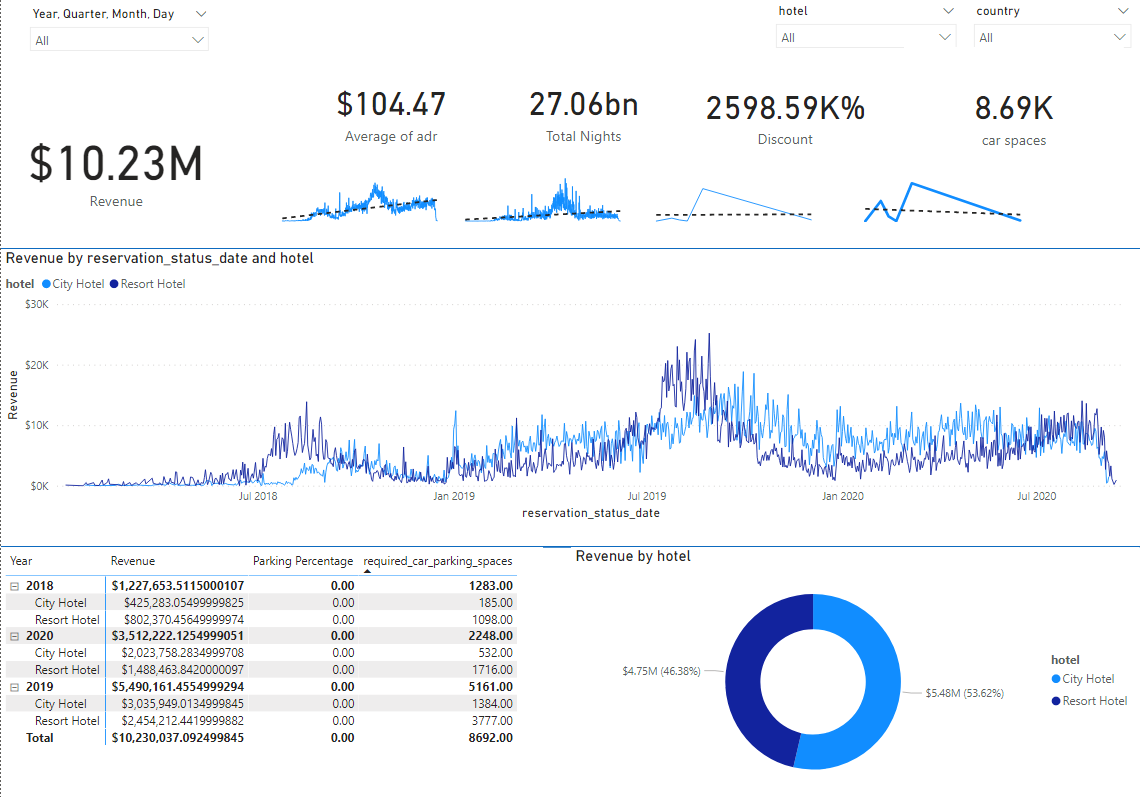

What the dashboard file says about the page in this screenshot:
{"tool":"powerbi","page":{"name":"Page 1","canvas":[1280,900],"ordinal":0},"visuals":[{"type":"shape","box":[0,265.6,1280,31.3],"z":0},{"type":"shape","box":[0,590.5,1280,48.7],"z":1000},{"type":"card","fields":{"Values":["Sum(Table.Revenue)"]},"box":[0,125.6,259.1,122.5],"z":2000},{"type":"card","fields":{"Values":["Table.Total Nights"]},"box":[570.1,56.5,169.6,138.2],"z":3000},{"type":"card","fields":{"Values":["Avg(Table.adr)"]},"box":[347.1,56.5,182.2,138.2],"z":4000},{"type":"card","fields":{"Values":["Sum(Table.Discount)"]},"box":[769.6,62.8,223,131.9],"z":5000},{"type":"lineChart","fields":{"Category":["Table.reservation_status_date"],"Y":["Sum(Table.Revenue)"],"Series":["Table.hotel"]},"box":[0,281.1,1280,309.4],"z":6000},{"type":"slicer","fields":{"Values":["Table.country"]},"box":[1083.4,0,196.6,62.5],"z":7000},{"type":"slicer","fields":{"Values":["Table.hotel"]},"box":[860.7,0,222.7,62.5],"z":8000},{"type":"lineChart","fields":{"Category":["Table.reservation_status_date"],"Y":["Sum(Table.adr)"]},"box":[301.5,186.9,204.2,69.1],"z":9000},{"type":"lineChart","fields":{"Category":["Table.reservation_status_date"],"Y":["Table.Total Nights"]},"box":[507.3,186.9,204.2,69.1],"z":10000},{"type":"lineChart","fields":{"Category":["Table.Discount"],"Y":["Sum(Table.Discount)"]},"box":[720.9,186.9,204.2,69.1],"z":11000},{"type":"card","fields":{"Values":["Sum(Table.required_car_parking_spaces)"]},"box":[1014.6,53.4,246.6,150.8],"z":12000},{"type":"lineChart","fields":{"Category":["Table.Discount"],"Y":["Sum(Table.required_car_parking_spaces)"]},"box":[956.5,186.9,204.2,69.1],"z":13000},{"type":"donutChart","fields":{"Category":["Table.hotel"],"Y":["Sum(Table.Revenue)"]},"box":[640.8,615.7,639.2,284.3],"z":14000},{"type":"pivotTable","fields":{"Values":["Sum(Table.Revenue)","Table.Parking Percentage","Sum(Table.required_car_parking_spaces)"],"Rows":["Table.reservation_status_date.Variation.Date Hierarchy.Year","Table.hotel"]},"box":[0,615.7,609.4,284.3],"z":14001},{"type":"slicer","fields":{"Values":["Table.reservation_status_date.Variation.Date Hierarchy.Year","Table.reservation_status_date.Variation.Date Hierarchy.Quarter","Table.reservation_status_date.Variation.Date Hierarchy.Month","Table.reservation_status_date.Variation.Date Hierarchy.Day"]},"box":[22,3.1,221.4,141.3],"z":14002}]}

Visuals, with their boxes in screenshot pixels (x1, y1, x2, y2), scaled from the page's 1280x900 canvas onto the 1140x797 screenshot:
shape: bbox=[0, 235, 1139, 263]
shape: bbox=[0, 523, 1139, 566]
card - Sum(Table.Revenue): bbox=[0, 111, 231, 220]
card - Table.Total Nights: bbox=[508, 50, 659, 172]
card - Avg(Table.adr): bbox=[309, 50, 471, 172]
card - Sum(Table.Discount): bbox=[685, 56, 884, 172]
lineChart - Table.reservation_status_date x Sum(Table.Revenue): bbox=[0, 249, 1139, 523]
slicer - Table.country: bbox=[965, 0, 1139, 55]
slicer - Table.hotel: bbox=[767, 0, 965, 55]
lineChart - Table.reservation_status_date x Sum(Table.adr): bbox=[269, 166, 450, 227]
lineChart - Table.reservation_status_date x Table.Total Nights: bbox=[452, 166, 634, 227]
lineChart - Table.Discount x Sum(Table.Discount): bbox=[642, 166, 824, 227]
card - Sum(Table.required_car_parking_spaces): bbox=[904, 47, 1123, 181]
lineChart - Table.Discount x Sum(Table.required_car_parking_spaces): bbox=[852, 166, 1034, 227]
donutChart - Table.hotel x Sum(Table.Revenue): bbox=[571, 545, 1139, 796]
pivotTable - Sum(Table.Revenue) x Table.Parking Percentage: bbox=[0, 545, 543, 796]
slicer - Table.reservation_status_date.Variation.Date Hierarchy.Year x Table.reservation_status_date.Variation.Date Hierarchy.Quarter: bbox=[20, 3, 217, 128]
